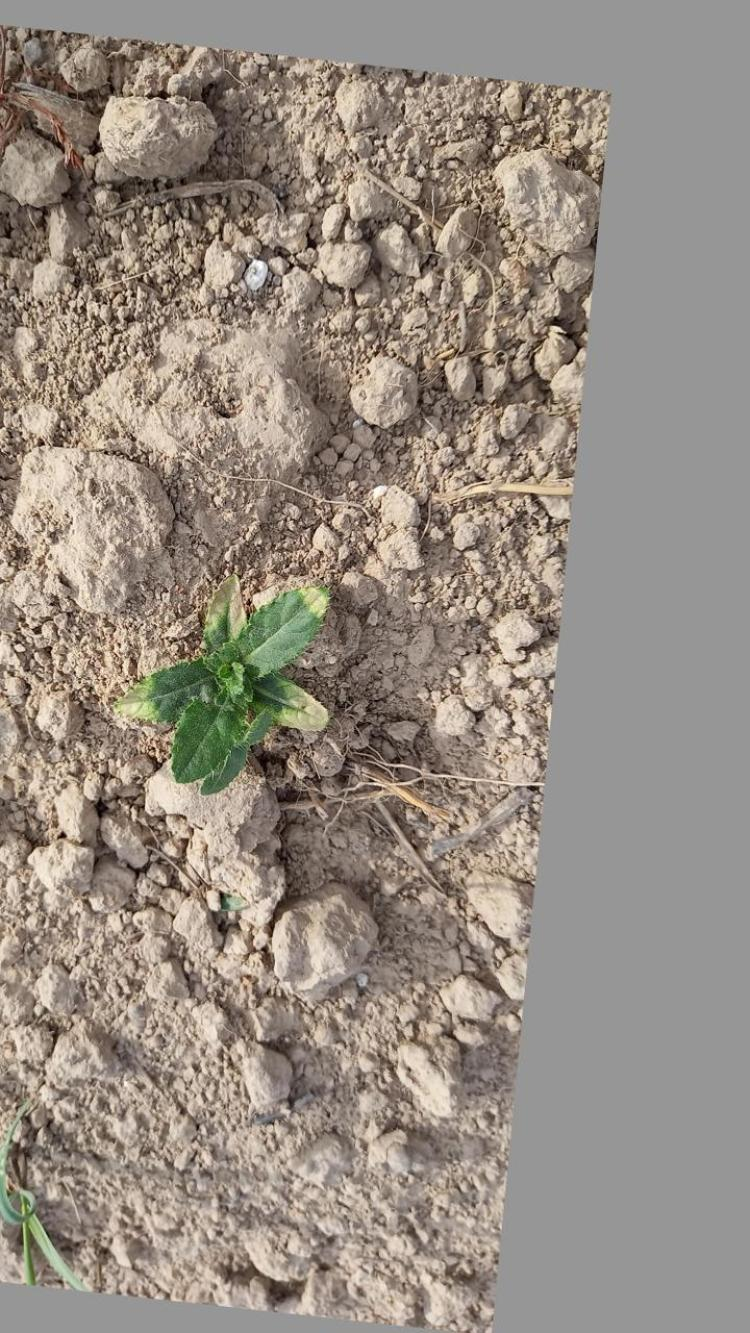bodyak: (125, 564, 323, 788)
